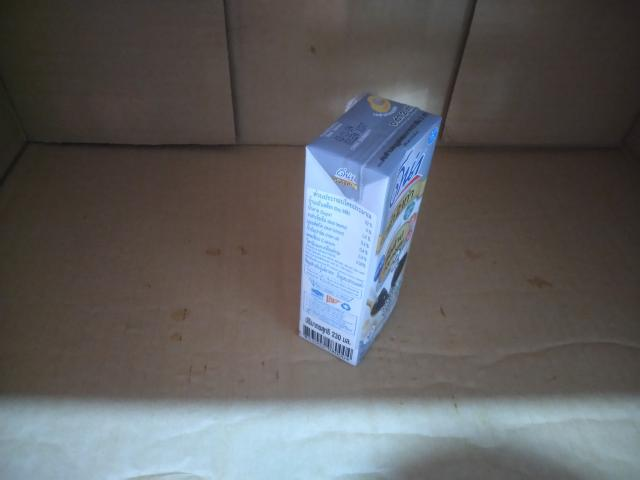drink_box: (268, 84, 454, 382)
